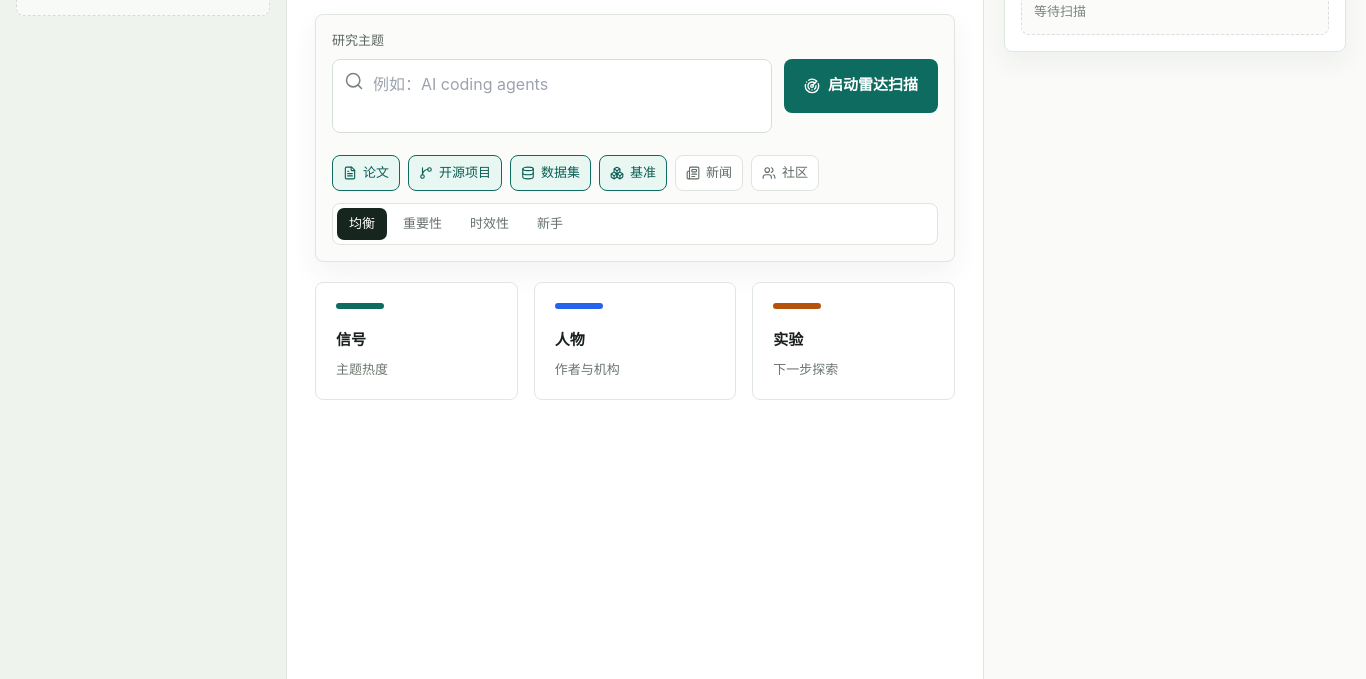
it: Research Radar POC page › runs backend source scan before creating the Agent run
Type "AI coding agents" into the text box labelled "研究主题" at point(552, 96), box [332,58,772,132]
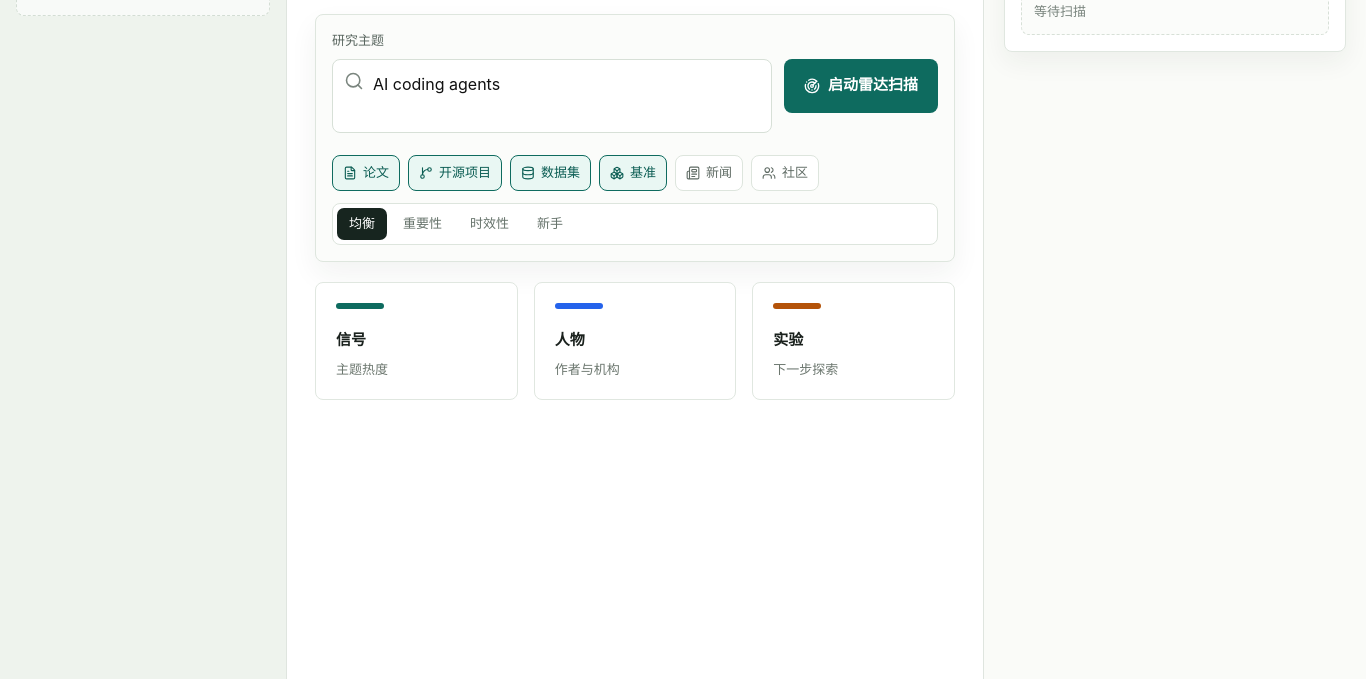
Click the button "启动雷达扫描" at point(861, 86), box [784,58,938,112]
(page scrolled)
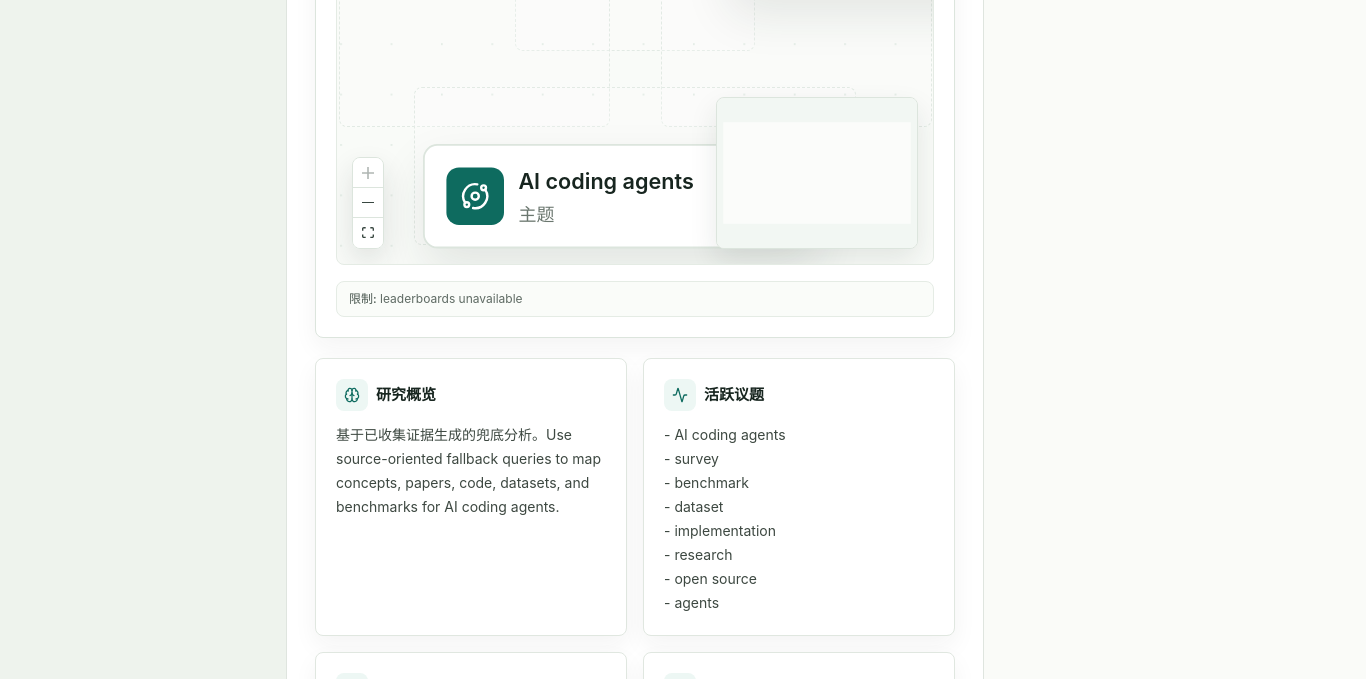
Expected: the text "leaderboards unavailable" is shown, [380,291,523,306]
